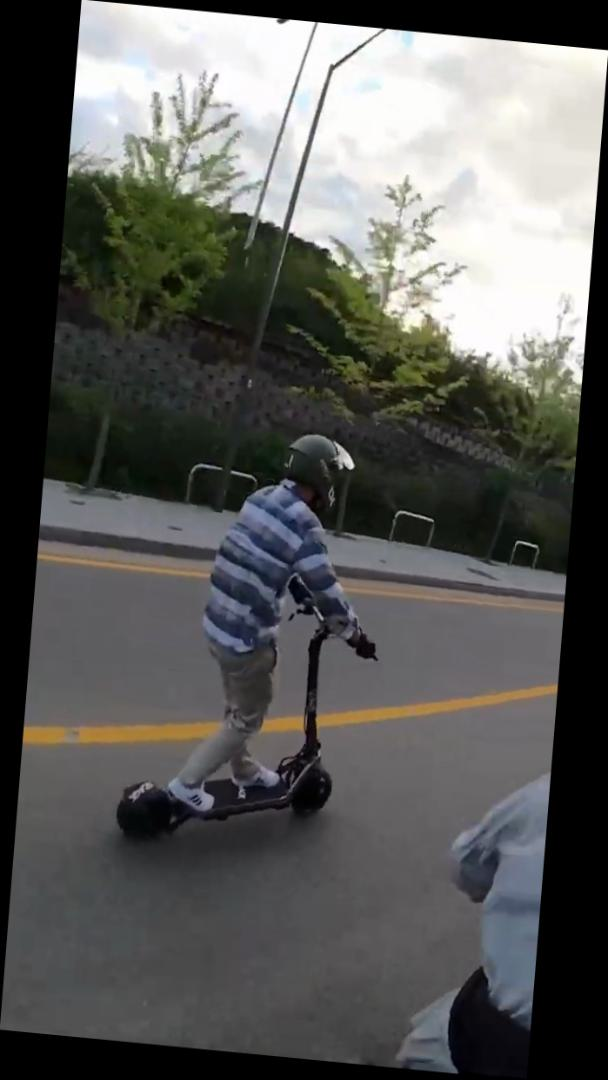helmet: (109, 415, 401, 870)
